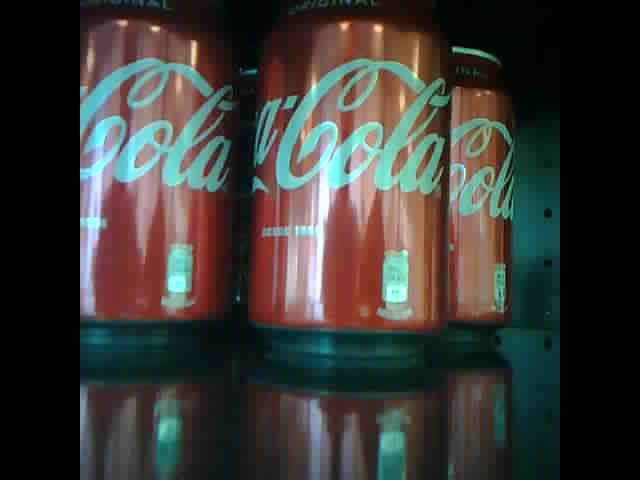coca cola: (247, 1, 456, 364), (78, 2, 241, 353), (441, 42, 514, 346)
